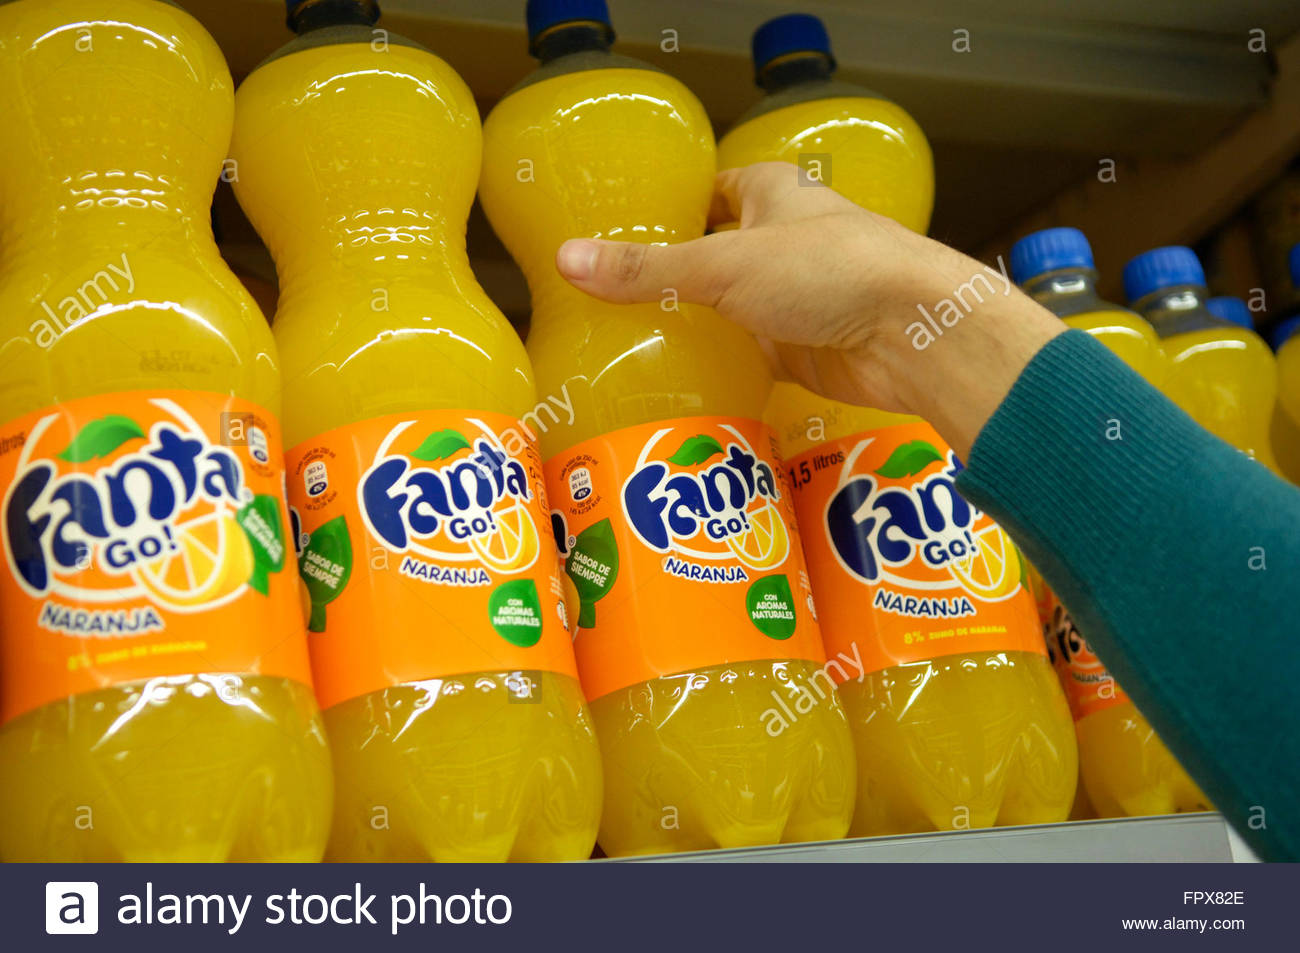Fanta: (6, 1, 306, 858), (537, 35, 790, 839), (308, 46, 542, 857)
